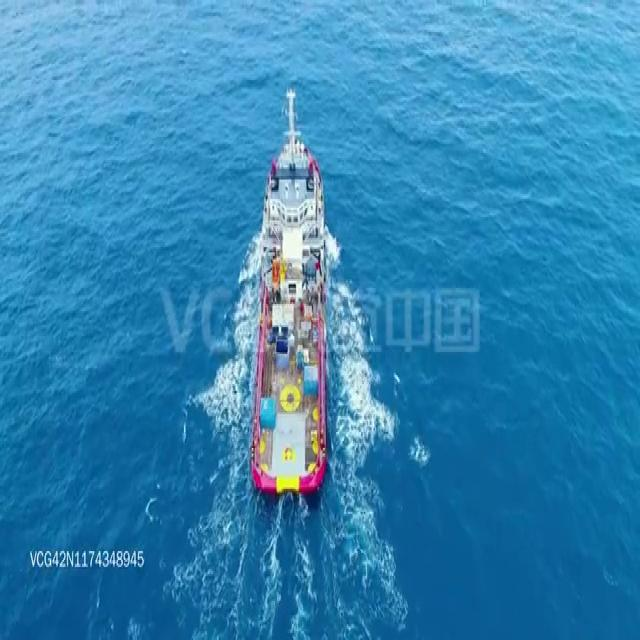fishing boat: (248, 82, 331, 502)
